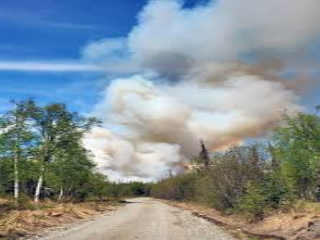smoke: (141, 4, 299, 139), (63, 72, 200, 187)
